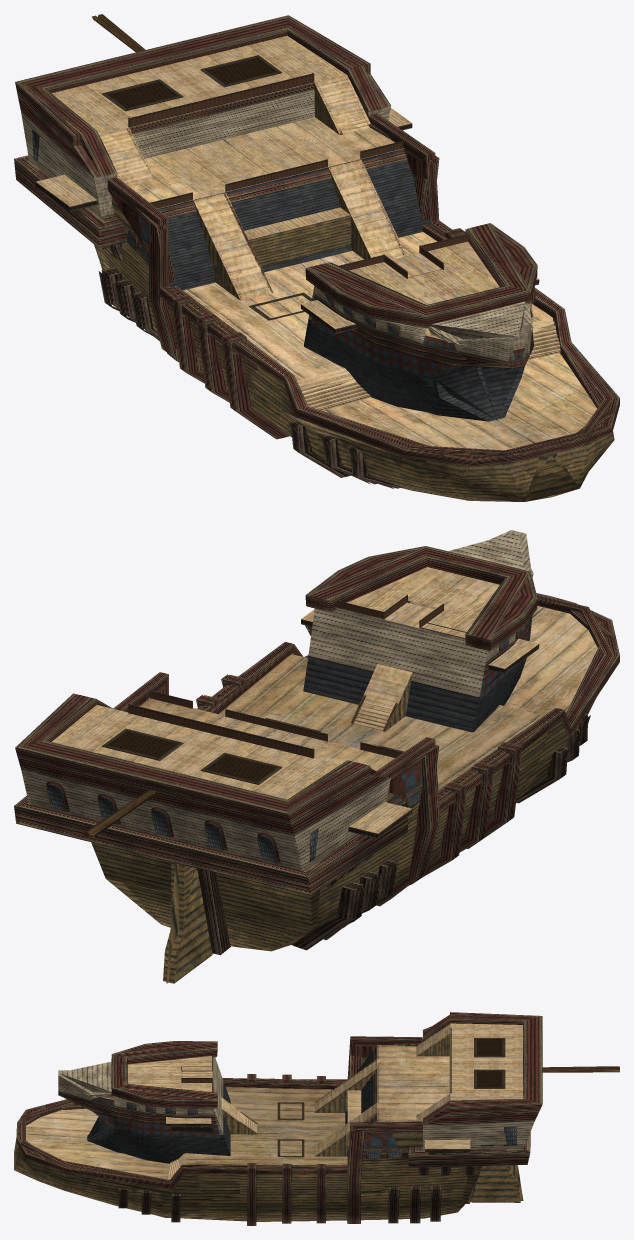
File: pir_m_shp_frg_war.fbx
3 renders of one model, top to bottom at view 1: azimuth 30°, elevation 25°; view 2: azimuth 150°, elevation 25°; view 3: azimuth 270°, elevation 25°, orthographic. The views are drawn at different scales.
Parts seen in each view (by area): view 1: hull, deck, deck2, polySurface77.001, deck_2.001, hull_6.001, deck3.001, polySurface76, rail1_left3, polySurface74, deck3, cabin_stripeA_1_2 (+44 smaller); view 2: deck, hull, deck3.001, hullB_7.001, hullA_b5, deck2, polySurface77, polySurface77.001, polySurface79, hullB_8, polySurface74.001, polySurface74 (+36 smaller); view 3: hull, deck, deck3.001, deck_2.001, deck2, polySurface77.001, polySurface76, cabin_hullB_1_0, polySurface74, rail1_left3, deck3, polySurface80 (+38 smaller).
Boxes of the visible parts, x1,y1,x2,y2 form: hull: [99, 160, 614, 501]; deck: [52, 35, 491, 301]; deck2: [322, 353, 596, 450]; polySurface77.001: [17, 16, 383, 176]; deck_2.001: [129, 117, 400, 206]; hull_6.001: [132, 90, 314, 158]; deck3.001: [216, 292, 552, 380]; polySurface76: [160, 220, 619, 467]; rail1_left3: [171, 224, 614, 455]; polySurface74: [305, 223, 537, 328]; deck3: [183, 232, 553, 383]; cabin_stripeA_1_2: [15, 15, 288, 88]; deck: [52, 576, 499, 799]; hull: [23, 658, 595, 950]; deck3.001: [218, 654, 543, 781]; hullB_7.001: [308, 532, 523, 697]; hullA_b5: [91, 733, 563, 928]; deck2: [504, 606, 597, 715]; polySurface77: [16, 741, 382, 835]; polySurface77.001: [17, 695, 383, 813]; polySurface79: [18, 801, 364, 894]; hullB_8: [303, 656, 479, 732]; polySurface74.001: [305, 546, 530, 650]; polySurface74: [306, 546, 537, 650]; hull: [14, 1051, 467, 1221]; deck: [132, 1023, 522, 1122]; deck3.001: [185, 1087, 302, 1164]; deck_2.001: [377, 1045, 449, 1121]; deck2: [26, 1108, 169, 1179]; polySurface77.001: [422, 1014, 542, 1122]; polySurface76: [16, 1078, 347, 1189]; cabin_hullB_1_0: [423, 1121, 534, 1150]; polySurface74: [111, 1041, 217, 1108]; rail1_left3: [21, 1081, 347, 1183]; deck3: [183, 1089, 347, 1164]; polySurface80: [347, 1039, 422, 1223].
Bounding box in the file's own units: 12666 × 7673 × 29378.
2 materials, 2 textured.
